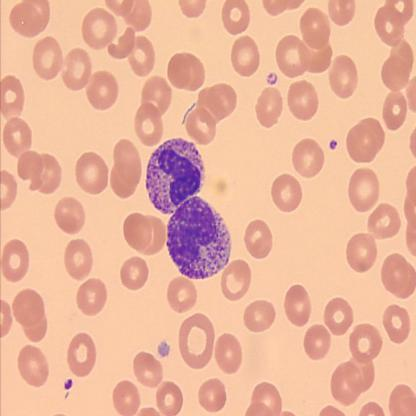Metamyelocyte: (165, 193, 234, 285), (144, 134, 207, 217)
